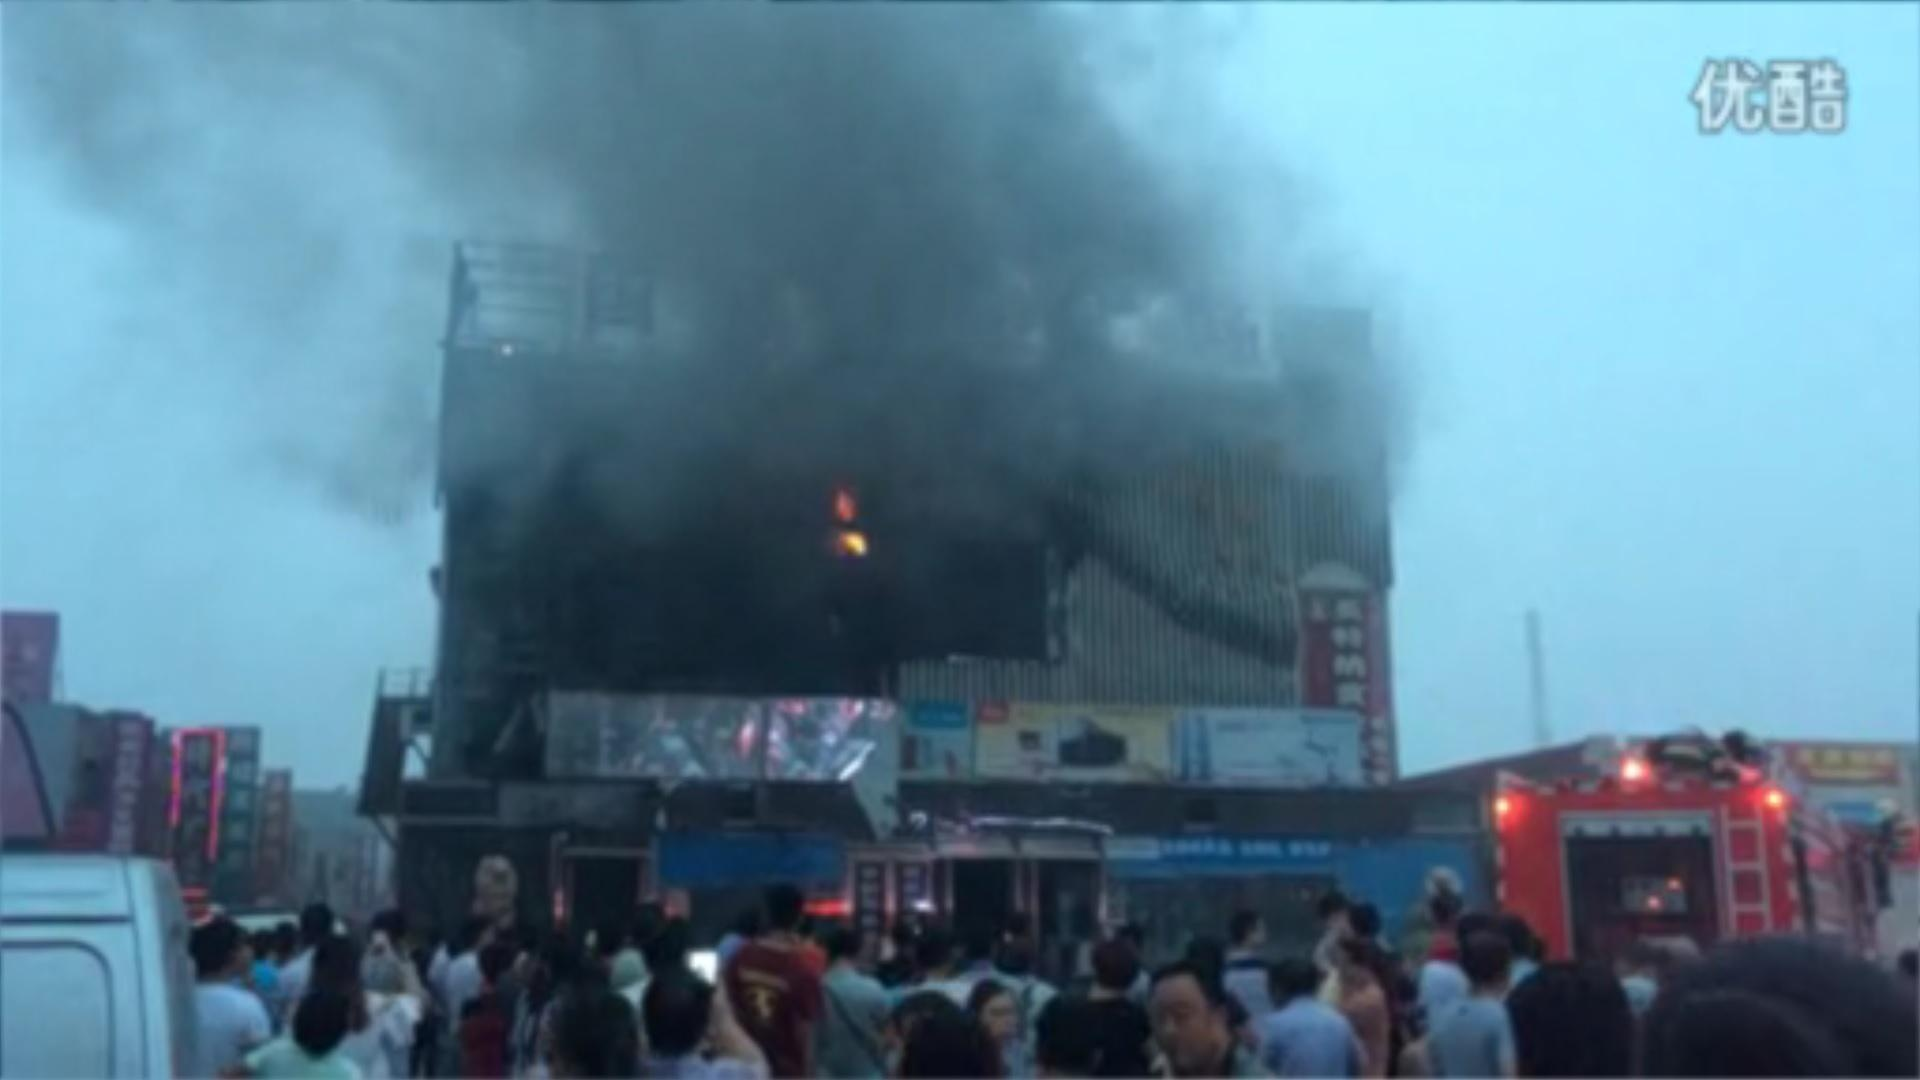fire: (828, 487, 866, 558)
